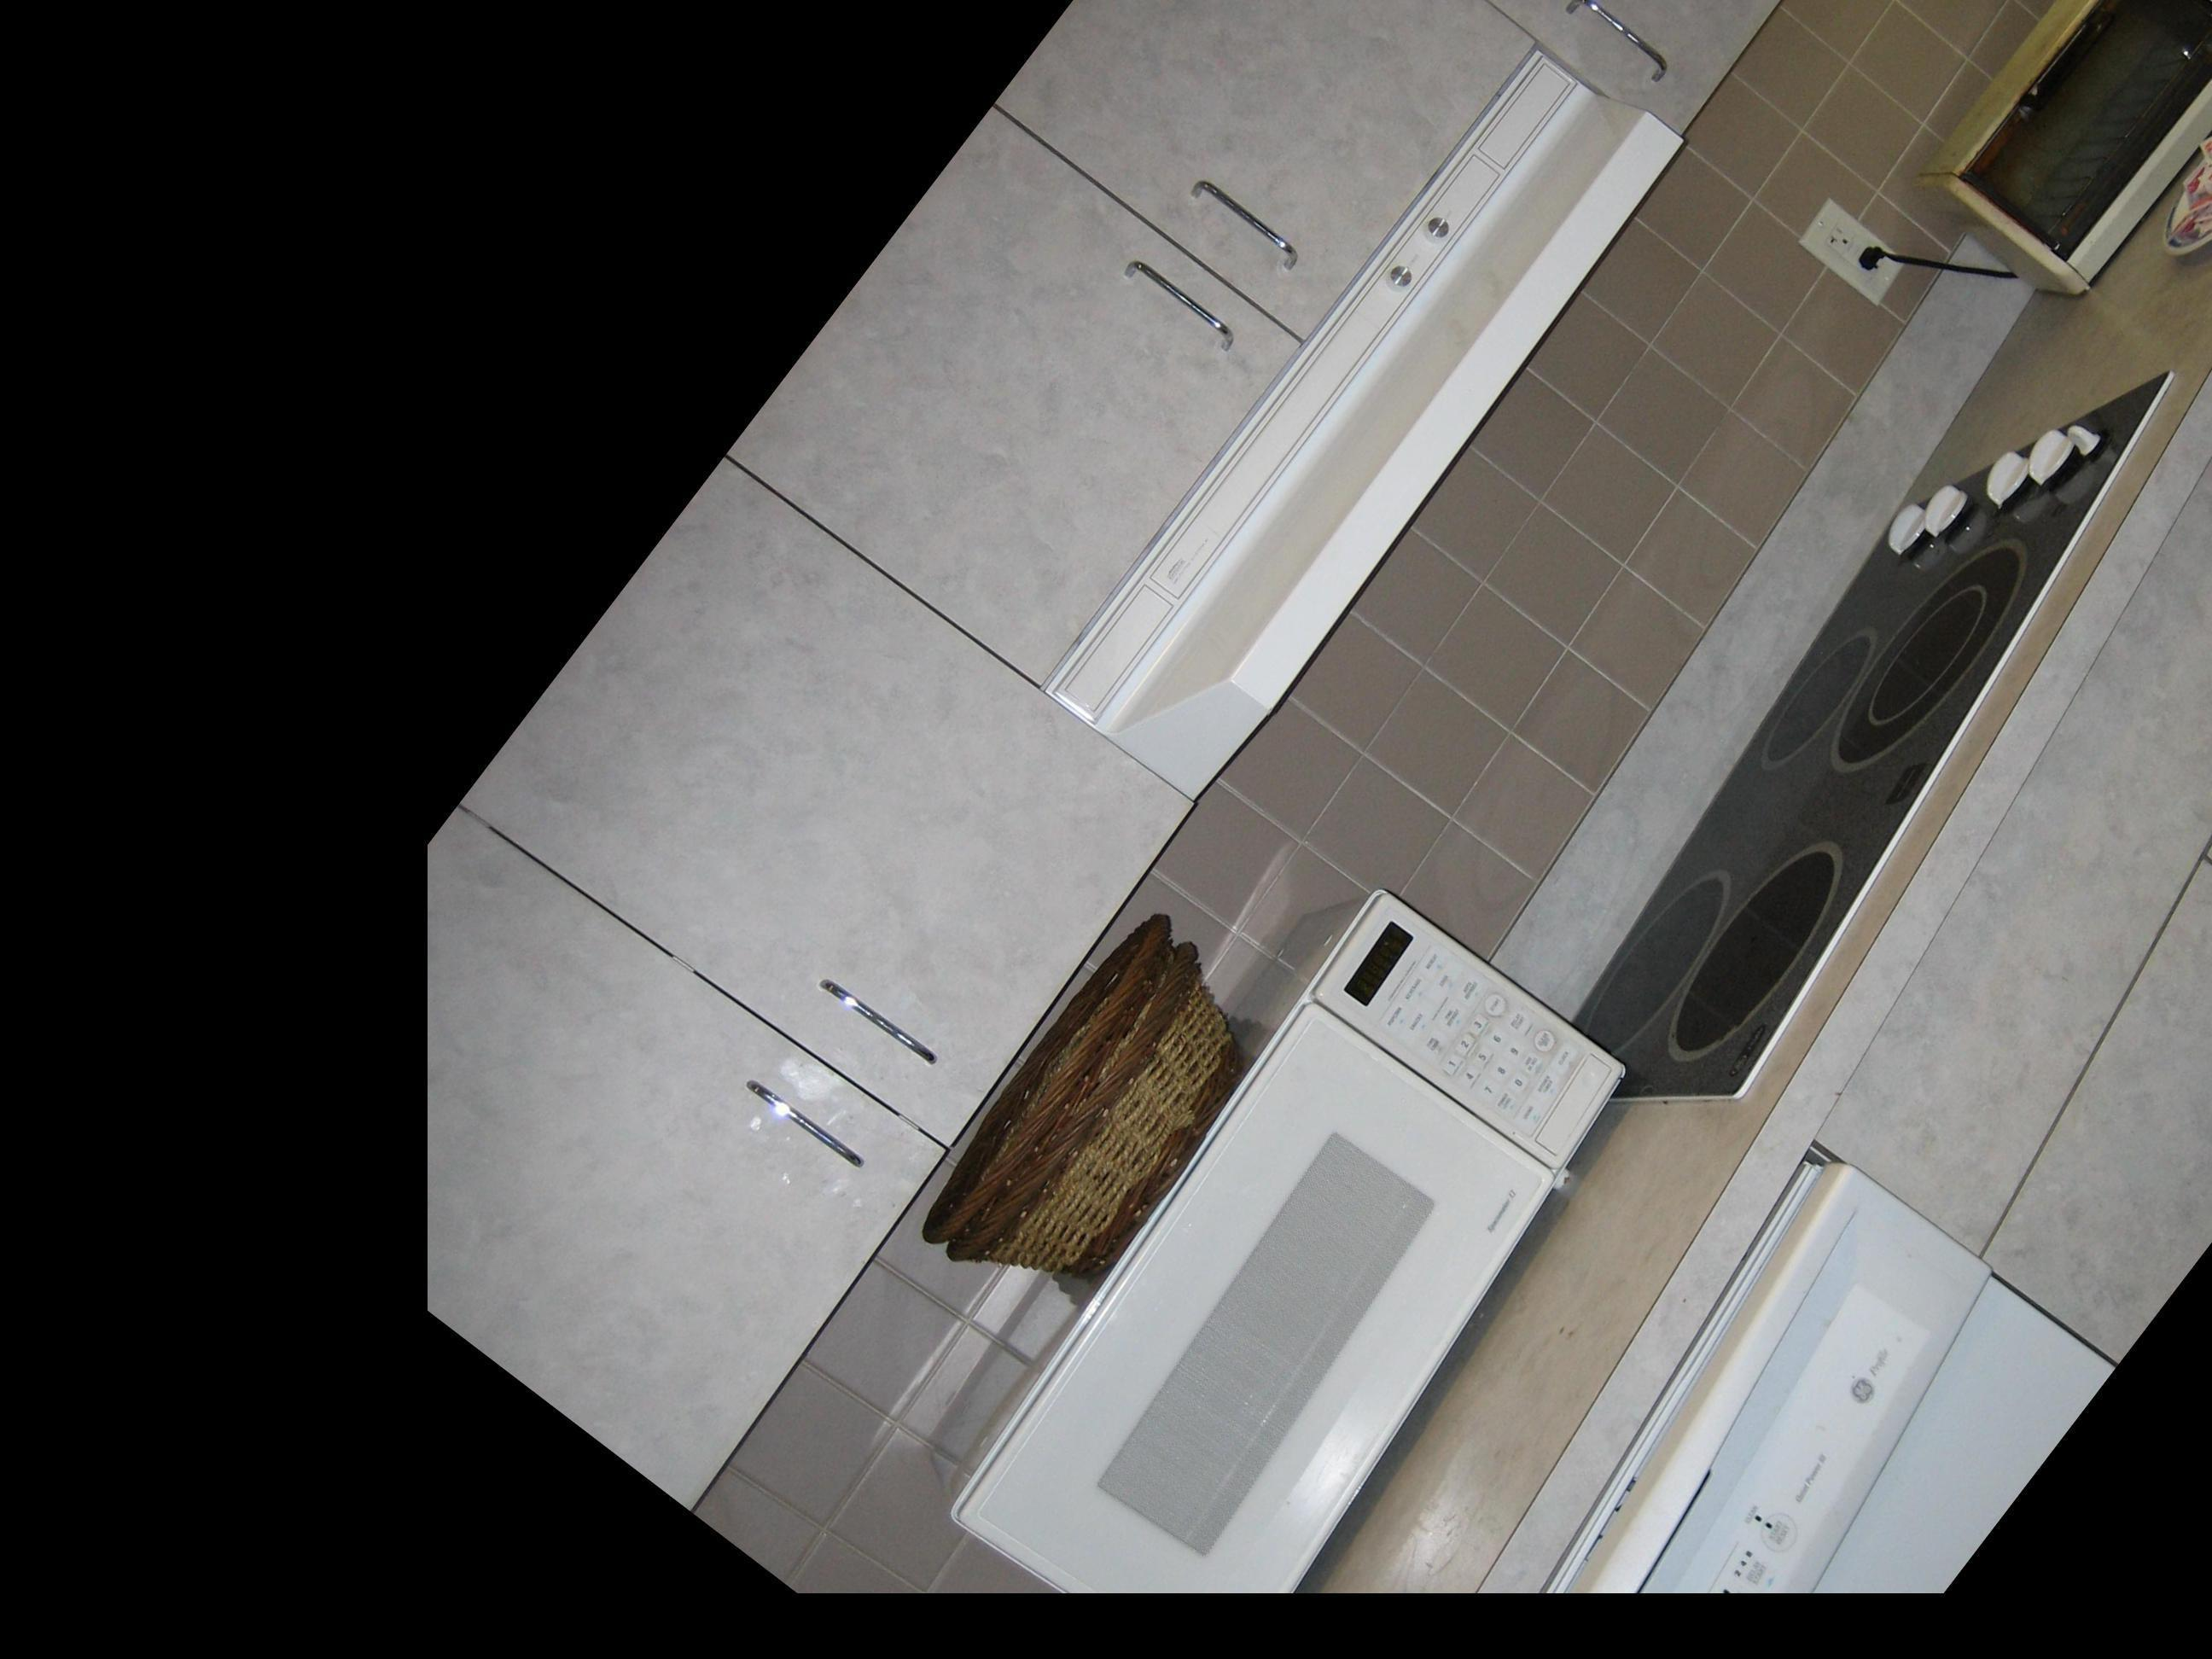Electrodomestico: (925, 901, 1662, 1659), (1550, 291, 2212, 1126), (1271, 1136, 2106, 1659)
